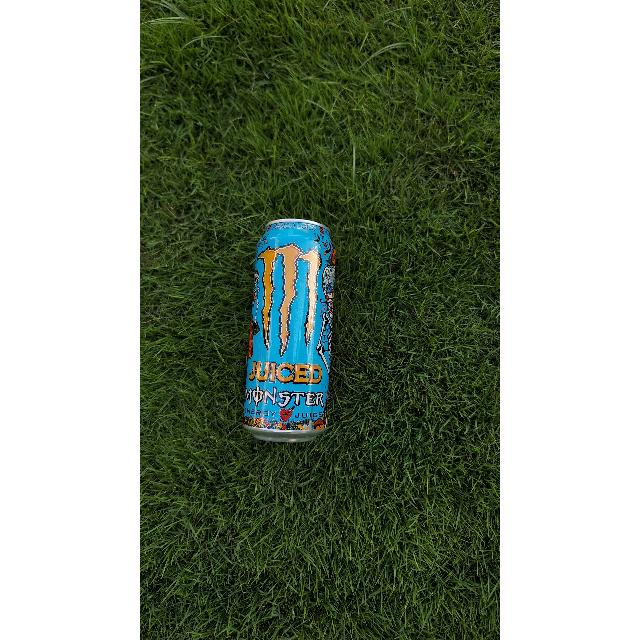Monster Mango Loco: (240, 218, 332, 442)
